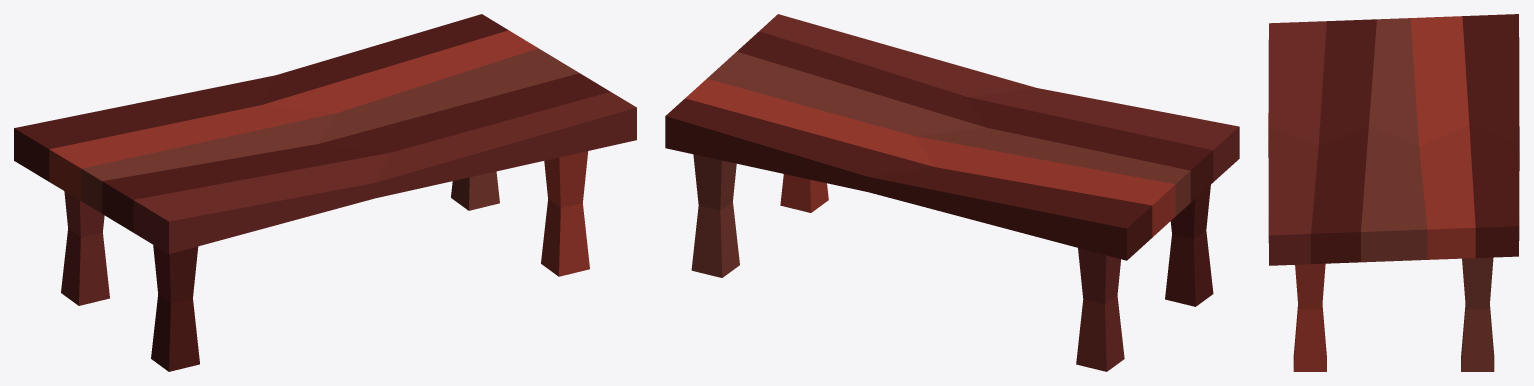
File: Table_5_Red.fbx
3 views of the same model, side by side, from view 1: azimuth 30°, elevation 25°; view 2: azimuth 150°, elevation 25°; view 3: azimuth 270°, elevation 25° (orthographic). The views are drawn at different scales.
Visible parts, largest first — view 1: Table_5_Red_Part_1, Table_5_Red_Part_2, Table_5_Red_Part_3, Table_5_Red_Part_4; view 2: Table_5_Red_Part_1, Table_5_Red_Part_2, Table_5_Red_Part_4, Table_5_Red_Part_3; view 3: Table_5_Red_Part_1, Table_5_Red_Part_4, Table_5_Red_Part_3, Table_5_Red_Part_2.
Part boxes in pixels (x1,y1,x2,y2): Table_5_Red_Part_1: (14,14,610,371); Table_5_Red_Part_2: (61,92,636,305); Table_5_Red_Part_3: (49,30,589,276); Table_5_Red_Part_4: (81,48,579,213); Table_5_Red_Part_1: (665,31,1213,306); Table_5_Red_Part_2: (759,14,1239,371); Table_5_Red_Part_4: (691,51,1190,277); Table_5_Red_Part_3: (685,79,1175,237); Table_5_Red_Part_1: (1311,14,1519,264); Table_5_Red_Part_4: (1361,18,1494,371); Table_5_Red_Part_3: (1293,16,1475,371); Table_5_Red_Part_2: (1268,21,1326,265).
Size of the model in its own units: 313 by 100 by 150.
